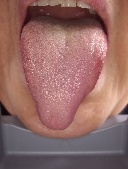tongue: (19, 31, 108, 131)
